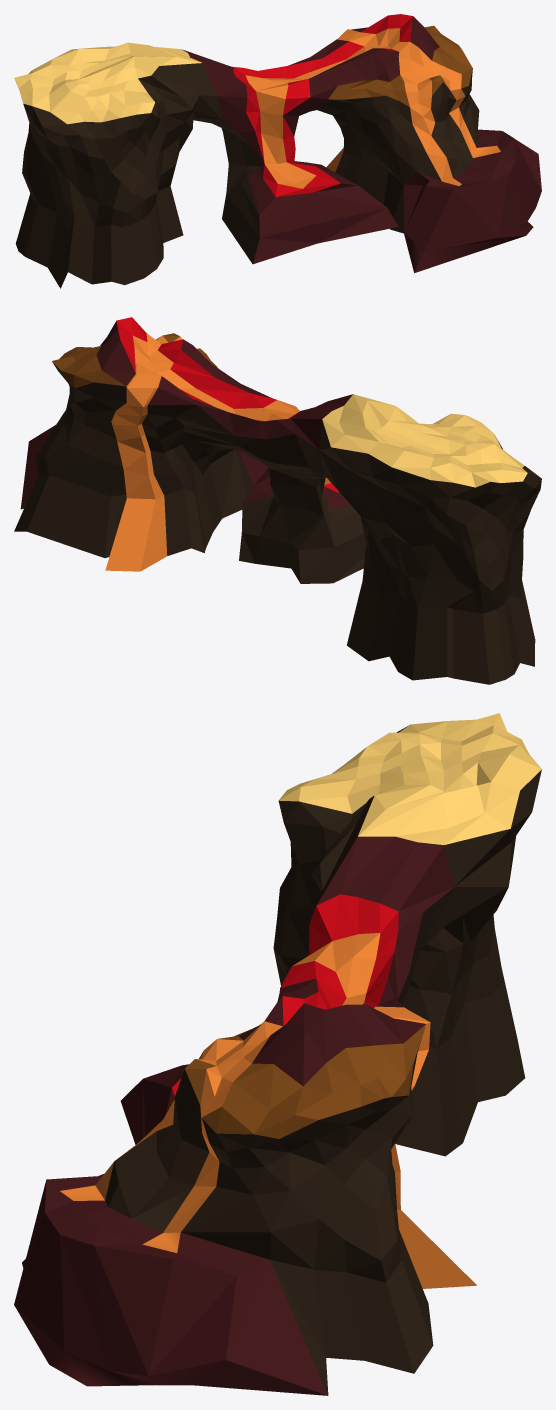
Rendered from Island_F01_Volc_Model.fbx.
The picture shows the model from 3 angles, top to bottom: view 1: azimuth 30°, elevation 25°; view 2: azimuth 150°, elevation 25°; view 3: azimuth 270°, elevation 25°; orthographic projection. The views are drawn at different scales.
Parts seen in each view (by area): view 1: pPlatonic3; view 2: pPlatonic3; view 3: pPlatonic3.
Part boxes in pixels (box(x1,y1,x2,y2)): pPlatonic3: box(14, 14, 541, 288); pPlatonic3: box(14, 317, 541, 684); pPlatonic3: box(14, 713, 541, 1395).
Bounding box in the file's own units: 210 × 86.11 × 114.
